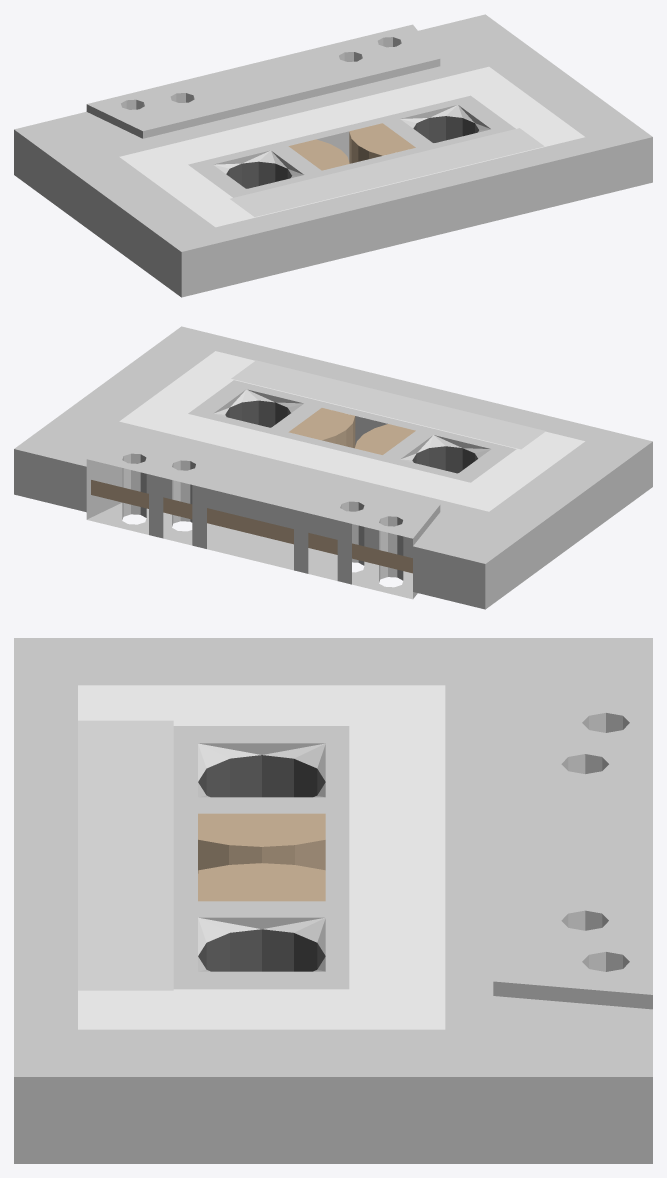
Rendered from AUDIOTAP.glb.
The picture shows the model from 3 angles, top to bottom: view 1: azimuth 30°, elevation 25°; view 2: azimuth 150°, elevation 25°; view 3: azimuth 270°, elevation 25°; orthographic projection. The views are drawn at different scales.
Parts seen in each view (by area): view 1: _0; view 2: _0; view 3: _0.
Boxes of the visible parts, left/top/right/bottom form: _0: left=14, top=14, right=652, bottom=297; _0: left=14, top=326, right=652, bottom=609; _0: left=14, top=638, right=652, bottom=1163.
Bounding box in the file's own units: 7.98 × 0.9816 × 4.91.
